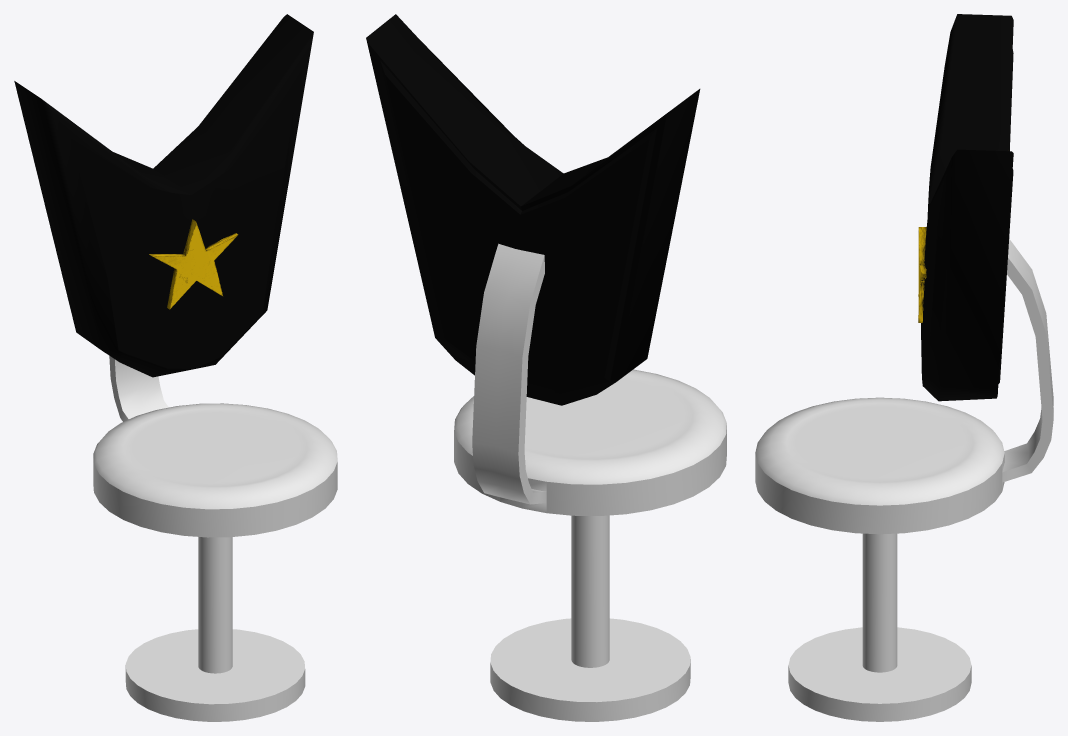
The model's file is FNaF_Chair.fbx.
The picture shows the model from 3 angles, left to right: view 1: azimuth 30°, elevation 25°; view 2: azimuth 150°, elevation 25°; view 3: azimuth 270°, elevation 25°; orthographic projection. The views are drawn at different scales.
Visible parts, largest first — view 1: Chair; view 2: Chair; view 3: Chair.
Boxes of the visible parts, x1,y1,x2,y2 form: Chair: (14,14,337,721); Chair: (366,14,726,721); Chair: (755,14,1053,721).
Bounding box in the file's own units: 439 × 910 × 409.
